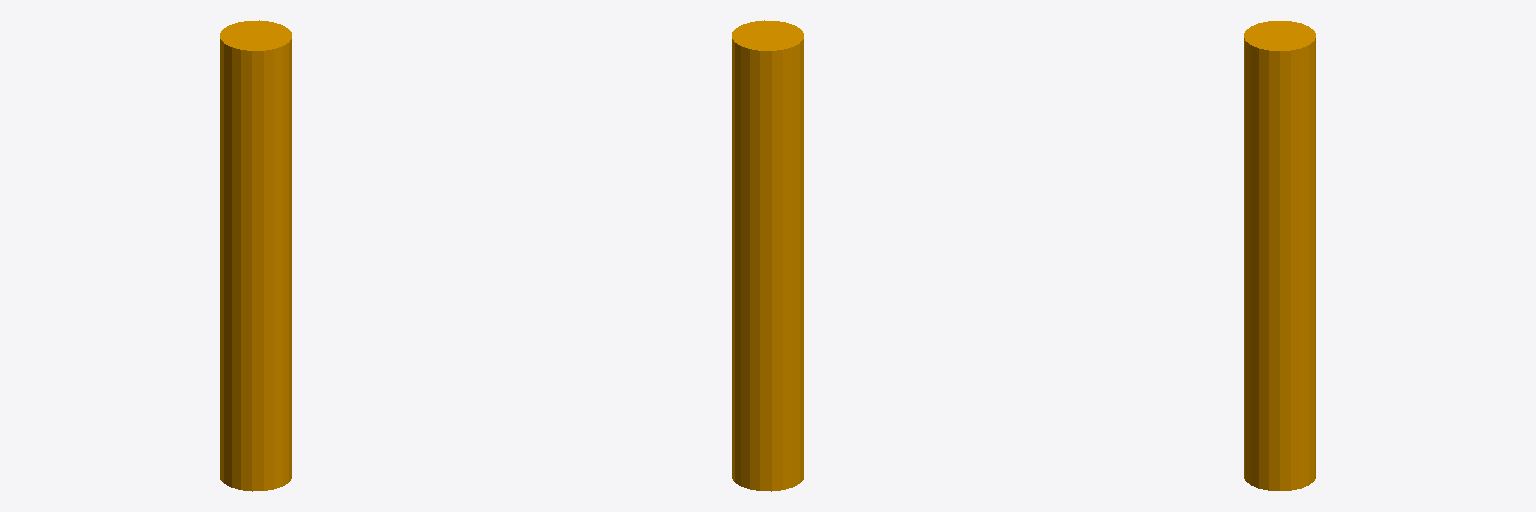
robot.urdf — 00293_plug:
<?xml version="1.0"?>
<robot name="00293_plug">
	<link name="00293_plug">
		<visual>
			<geometry>
				<mesh filename="../mesh/00293/asset_plug.obj"/>
			</geometry>
		</visual>
		<collision>
			<geometry>
				<mesh filename="../mesh/00293/asset_plug.obj"/>
			</geometry>
			<sdf resolution="256"/>
		</collision>
	</link>
</robot>

--- Facts derived from the render (not from the file) ---
The picture shows the robot from 3 angles, left to right: view 1: azimuth 30°, elevation 25°; view 2: azimuth 150°, elevation 25°; view 3: azimuth 270°, elevation 25°; orthographic projection.
Model 00293_plug with 1 links and 0 joints (none), rooted at 00293_plug, posed all joints at 0.
Links seen in each view (by area): view 1: 00293_plug; view 2: 00293_plug; view 3: 00293_plug.
Boxes of the visible links, x1,y1,x2,y2 form: 00293_plug: [220, 20, 291, 491]; 00293_plug: [732, 20, 803, 491]; 00293_plug: [1244, 21, 1315, 490].
Size in the robot's own frame: 0.0075 by 0.0075 by 0.0497 metres.
1 mesh visuals loaded from 1 distinct referenced files (1 OBJ).